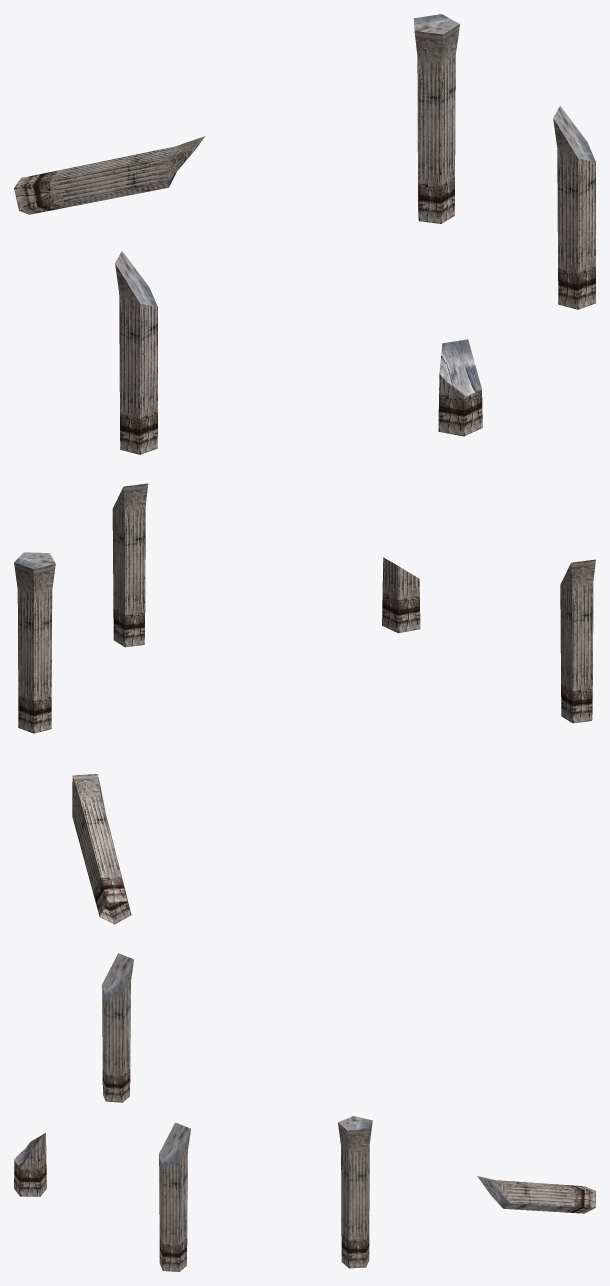
The model's file is zhu02.obj.
3 views of the same model, one above another, from view 1: azimuth 30°, elevation 25°; view 2: azimuth 150°, elevation 25°; view 3: azimuth 270°, elevation 25° (orthographic). The views are drawn at different scales.
Visible parts, largest first — view 1: zhu02; view 2: zhu02; view 3: zhu02.
Boxes of the visible parts, box(x1,y1,x2,y2) form: zhu02: box(14, 14, 595, 454); zhu02: box(14, 483, 595, 924); zhu02: box(14, 953, 595, 1271).
Bounding box in the file's own units: 286 × 130 × 385.
